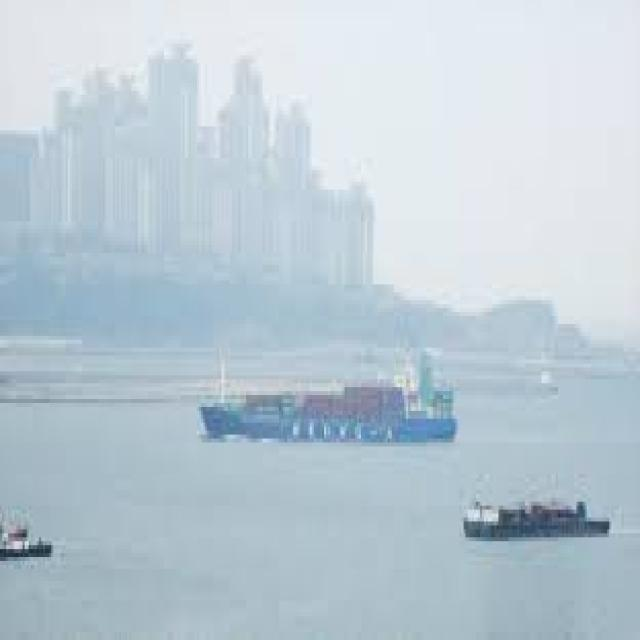cargoship: (197, 338, 460, 446), (464, 488, 610, 546)
fishing boat: (0, 502, 52, 564)
